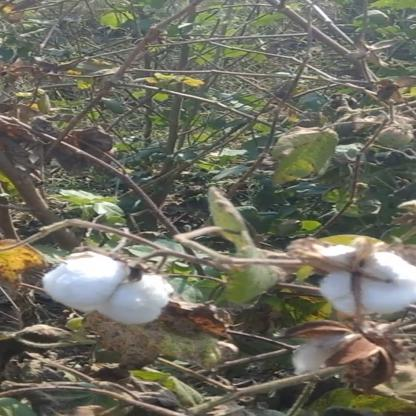cotton_ready: (43, 248, 171, 325), (294, 240, 414, 319)
